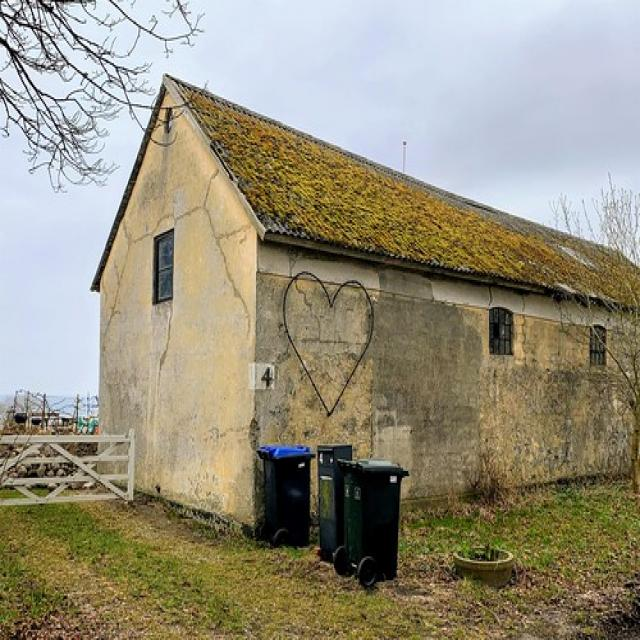Normal_building: (88, 70, 639, 531)
